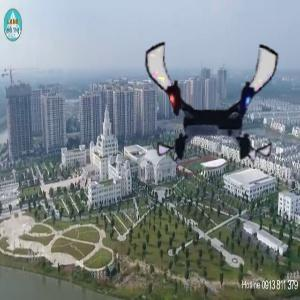drone: (142, 33, 279, 170)
